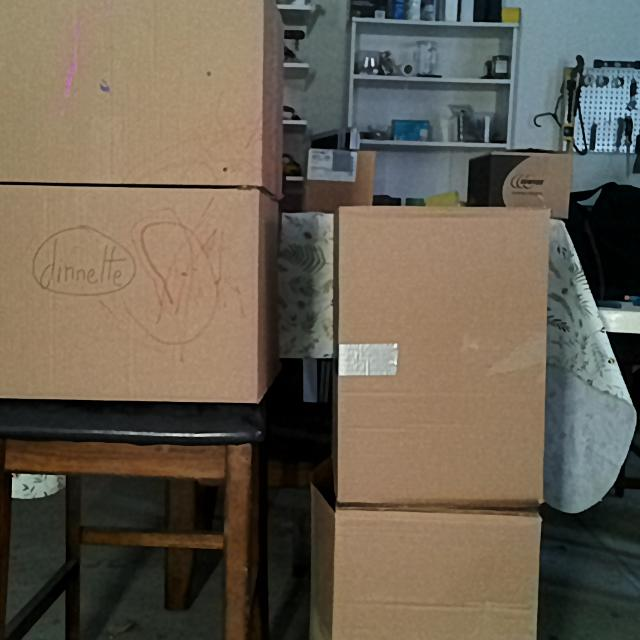box: (339, 208, 548, 506), (0, 188, 256, 403), (0, 0, 262, 187), (334, 508, 537, 640)
